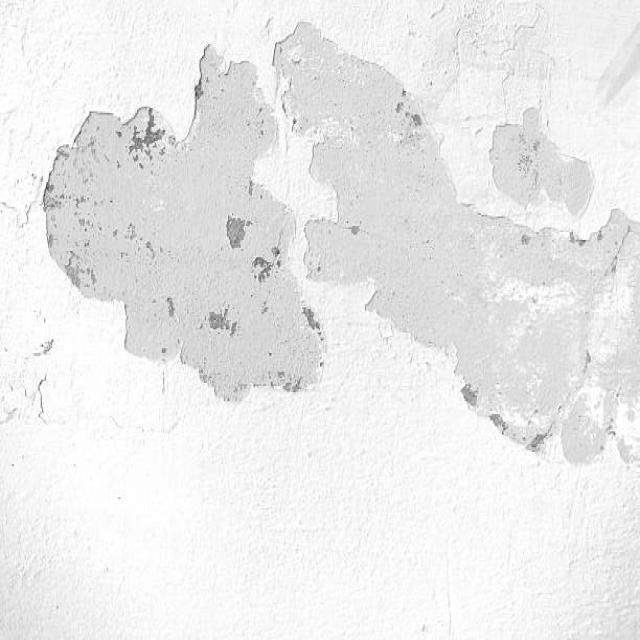peeling paint: (0, 13, 640, 510)
